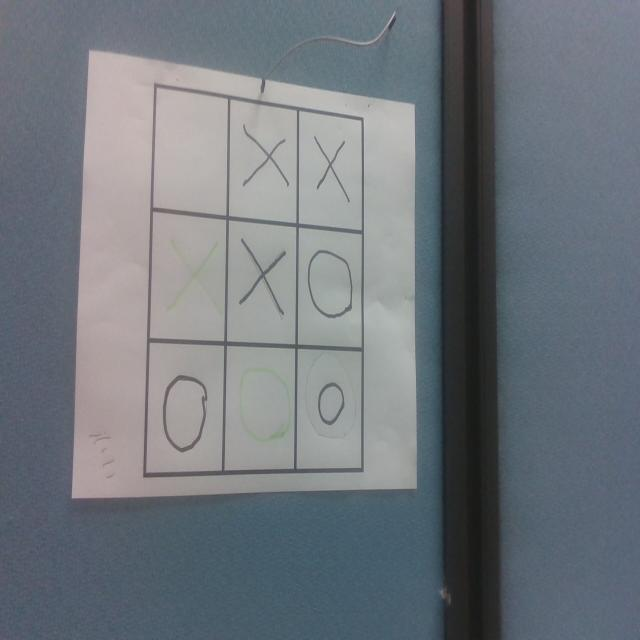null: (153, 89, 228, 218)
o: (238, 366, 292, 444), (161, 373, 208, 452), (306, 246, 353, 319), (317, 380, 345, 425)
table: (145, 81, 362, 477)
x: (170, 239, 222, 318), (242, 240, 286, 319), (244, 128, 291, 191), (314, 136, 349, 205)
